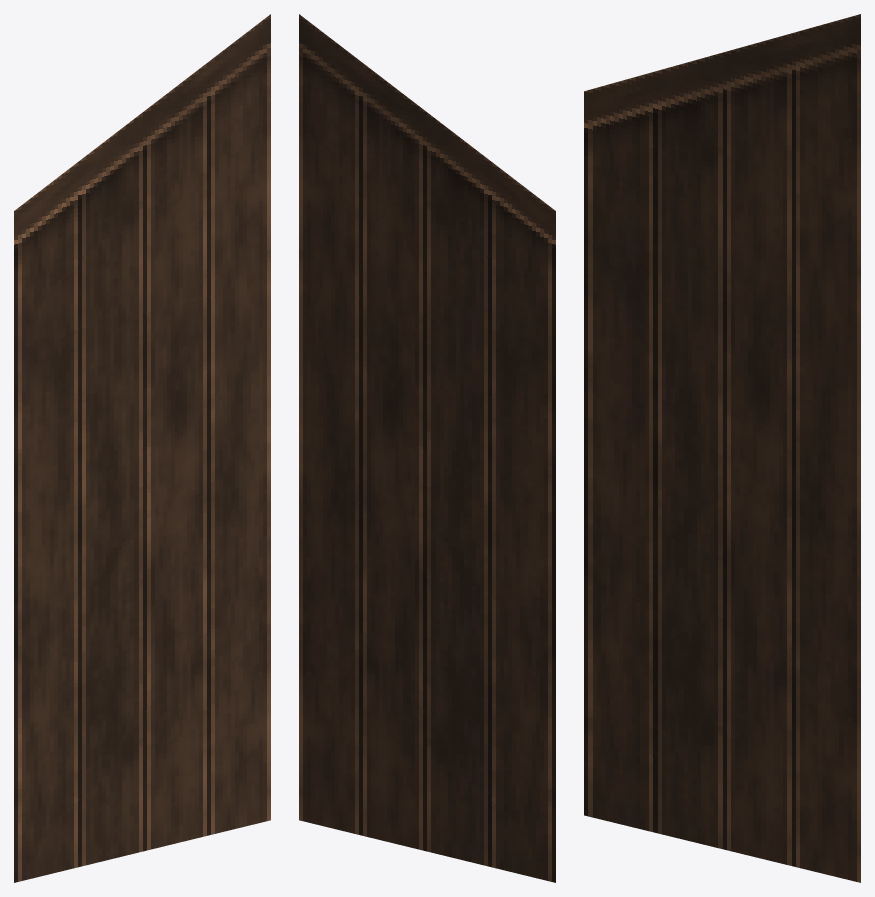
File: house_side_roof_6.glb
The picture shows the model from 3 angles, left to right: view 1: azimuth 30°, elevation 25°; view 2: azimuth 150°, elevation 25°; view 3: azimuth 330°, elevation 25°; orthographic projection. The views are drawn at different scales.
Parts seen in each view (by area): view 1: house_side_roof_6; view 2: house_side_roof_6; view 3: house_side_roof_6.
Part boxes in pixels (x1=…): house_side_roof_6: x1=14, y1=14, x2=270, y2=882; house_side_roof_6: x1=299, y1=14, x2=555, y2=882; house_side_roof_6: x1=584, y1=14, x2=860, y2=882.
Size of the model in its own units: 1 by 3 by 4.77e-07.
1 material, 1 textured.
